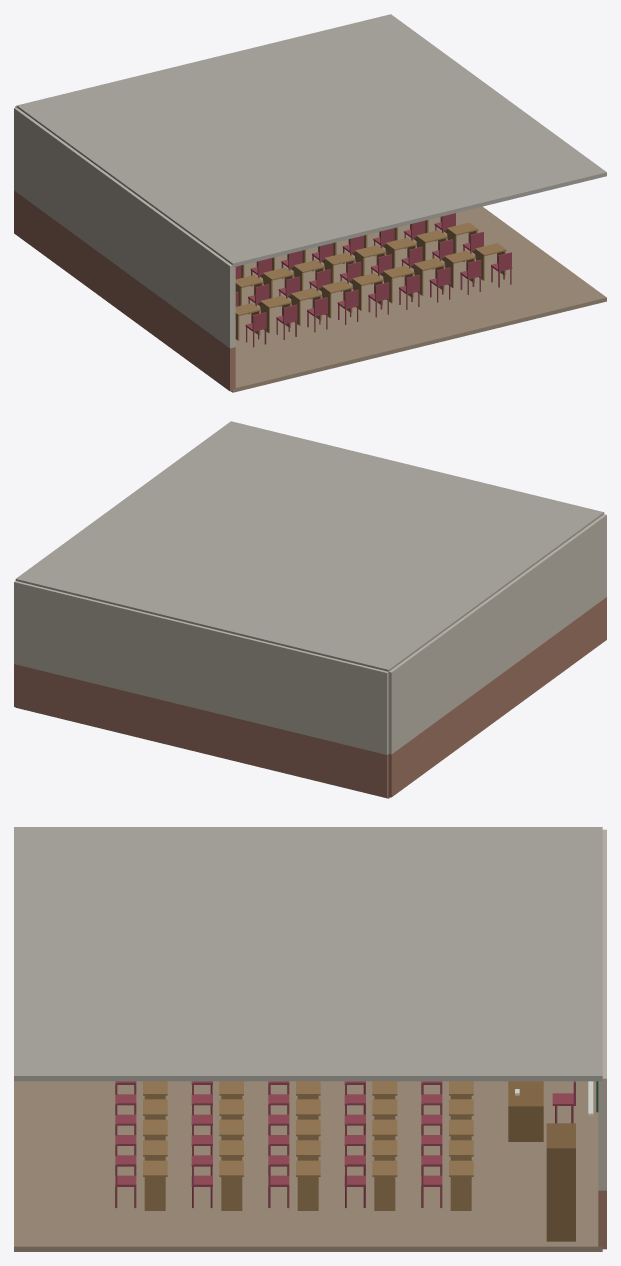
File: coloured_class.glb
The picture shows the model from 3 angles, top to bottom: view 1: azimuth 30°, elevation 25°; view 2: azimuth 150°, elevation 25°; view 3: azimuth 270°, elevation 25°; orthographic projection. The views are drawn at different scales.
Visible parts, largest first — view 1: Ceiling, Wall_Left, Floor; view 2: Ceiling, Wall_Front, Wall_Left; view 3: Ceiling, Floor, Storage_Cupboard, Wall_Front, Teacher_Desk, Desk_20, Desk_10, Desk_30, Desk_40, Desk_50.
Part boxes in pixels (<box>): Ceiling: <box>16,14,606,267</box>; Wall_Left: <box>14,107,235,391</box>; Floor: <box>231,206,606,392</box>; Ceiling: <box>15,421,604,671</box>; Wall_Front: <box>14,581,388,797</box>; Wall_Left: <box>388,514,606,797</box>; Ceiling: <box>14,827,602,1081</box>; Floor: <box>14,1081,602,1251</box>; Storage_Cupboard: <box>546,1123,575,1241</box>; Wall_Front: <box>598,829,606,1249</box>; Teacher_Desk: <box>508,1081,543,1141</box>; Desk_20: <box>372,1160,397,1210</box>; Desk_10: <box>449,1160,473,1210</box>; Desk_30: <box>296,1160,320,1210</box>; Desk_40: <box>219,1160,243,1210</box>; Desk_50: <box>143,1160,167,1210</box>.
Size of the model in its own units: 10.08 by 3.3 by 10.07.
